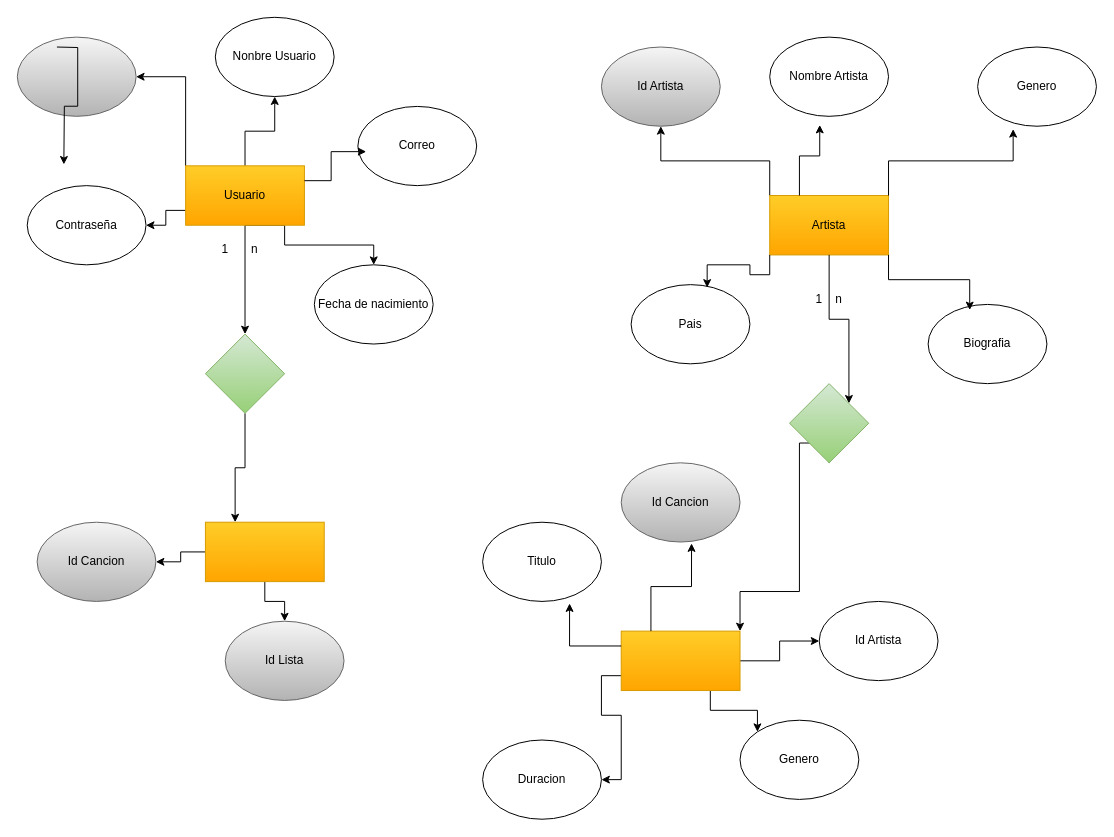
Some shapes in this 1114 by 837 pixel diagram are drawn without their labels. The shapes that lost their labels are listed below. From the top down, each one's box as (x1, y1, x2, y2) in pixels, then its label:
(16, 36, 136, 116): Id Usuario
(204, 333, 285, 413): Crea
(789, 383, 869, 463): Interpreta
(204, 521, 324, 582): Lista de reproduccion
(620, 630, 740, 691): Cancion
